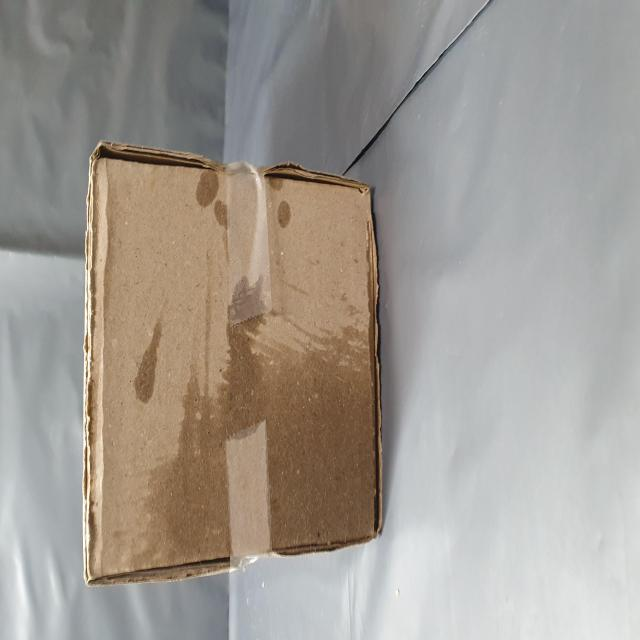wet: (38, 250, 204, 640)
